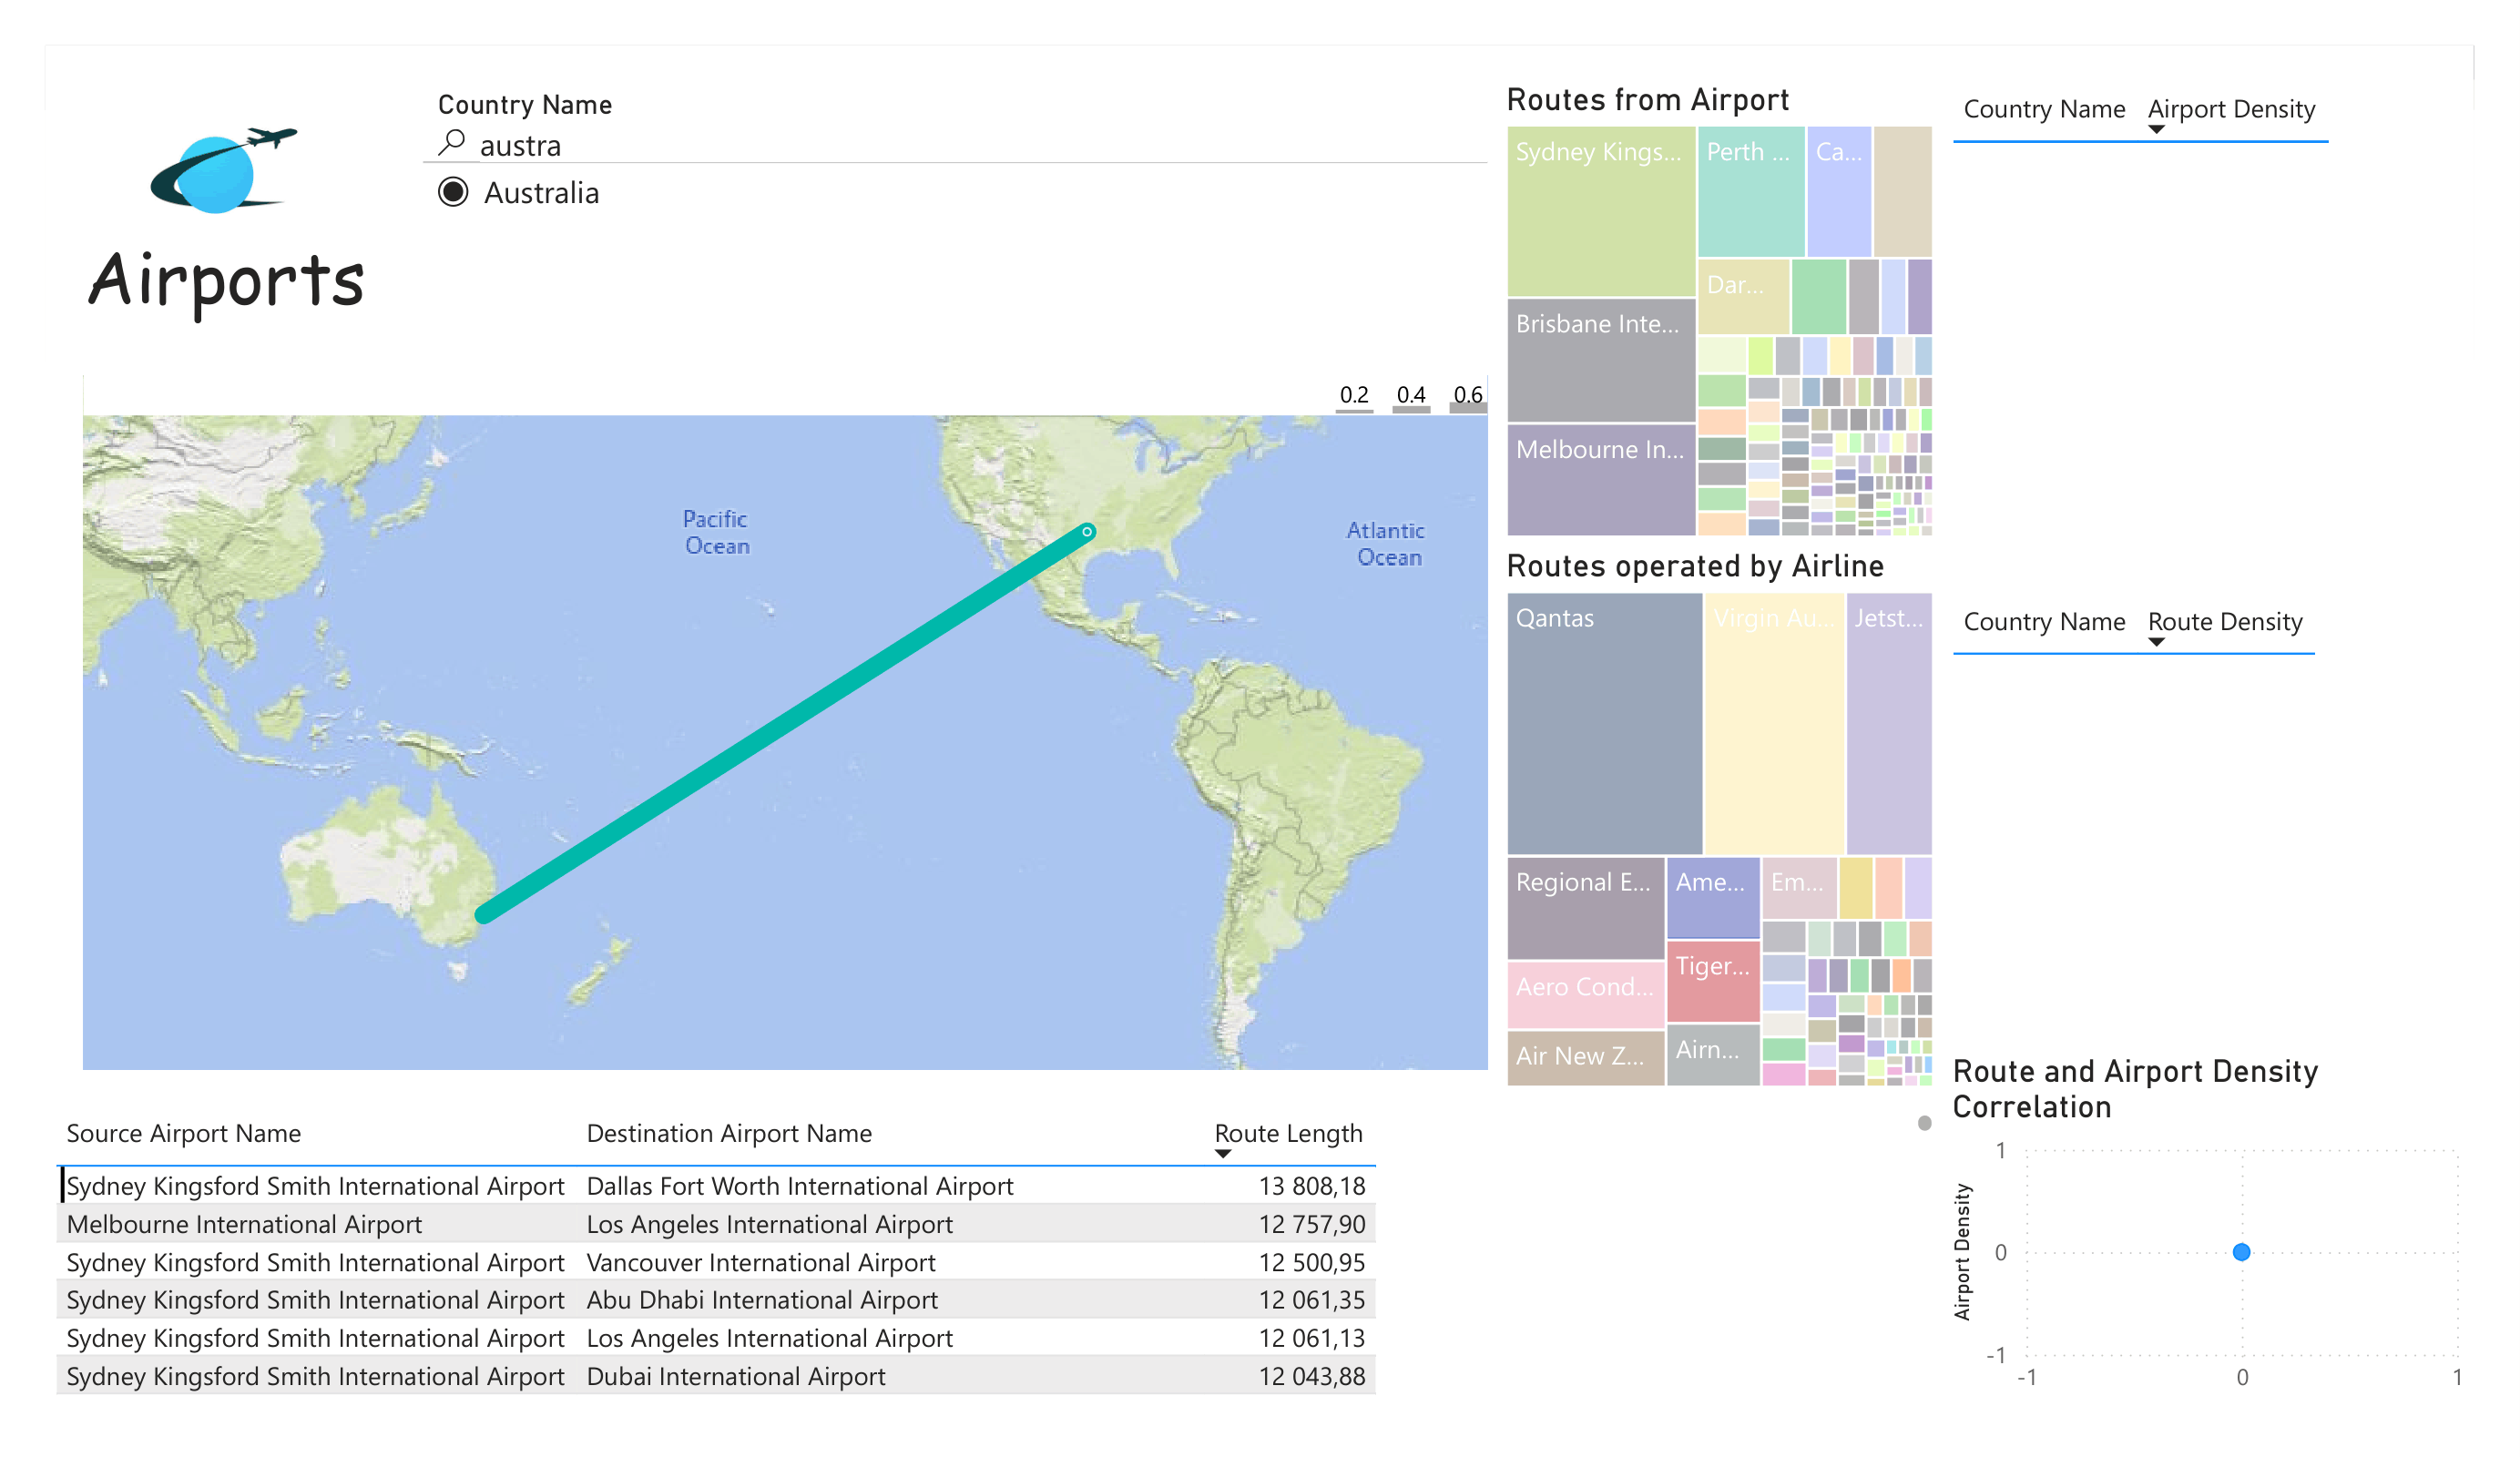

The dashboard page shown, as its layout file describes it:
{"tool":"powerbi","page":{"name":"Best Visualization","canvas":[1280,720],"ordinal":1},"visuals":[{"type":"image","box":[0,15.4,188,101.4],"z":0},{"type":"treemap","title":"Routes operated by Airline","fields":{"Group":["target airlines.name"],"Values":["target airlines.Airline Route Count"]},"box":[764.8,263.5,235.3,290.6],"z":1000},{"type":"treemap","title":"Routes from Airport","fields":{"Group":["target airports.name"],"Values":["target airports.Airport Route Count"]},"box":[764.8,17.8,235.3,245.7],"z":2000},{"type":"tableEx","fields":{"Values":["target routes.Src Name","target routes.Dest Name","target routes.Route Length"]},"box":[0,558.4,1000.1,161.6],"z":3000},{"type":"tableEx","fields":{"Values":["target countries.name","target countries.Airport Density"]},"box":[1000.1,18.4,280.1,269.7],"z":4000},{"type":"textbox","box":[15.4,90.3,172.6,63.3],"z":5000},{"type":"tableEx","fields":{"Values":["target countries.name","target countries.Route Density"]},"box":[1000.1,288.1,280.1,241.4],"z":6000},{"type":"scatterChart","title":"Route and Airport Density Correlation","fields":{"X":["target countries.Route Density"],"Y":["target countries.Airport Density"]},"box":[1000.1,529.6,280.1,190.4],"z":7000},{"type":"slicer","fields":{"Values":["target countries.name"]},"box":[193.5,18.4,571.9,150.5],"z":8000},{"type":"flowmap30CFDD5B92F848C88242B1E81C8C33C7","fields":{"Dest":["target routes.Dest Name"],"Origin":["target routes.Src Name"],"DLati":["Avg(target routes.Dest Lat)"],"DLong":["Avg(target routes.Dest Long)"],"OLati":["Avg(target routes.Src Lat)"],"OLong":["Avg(target routes.Src Long)"]},"box":[15.4,168.9,750.1,376],"z":9000}]}

Visuals, with their boxes on the page's 1280x720 design canvas (x1, y1, x2, y2). These are canvas units, not pixel positions in the 2520x1457 screenshot, which may show the page scaled, cropped or inside an application window:
image: box=[0, 15, 188, 117]
"Routes operated by Airline" treemap: box=[765, 264, 1000, 554]
"Routes from Airport" treemap: box=[765, 18, 1000, 264]
tableEx - target routes.Src Name x target routes.Dest Name: box=[0, 558, 1000, 720]
tableEx - target countries.name x target countries.Airport Density: box=[1000, 18, 1280, 288]
textbox: box=[15, 90, 188, 154]
tableEx - target countries.name x target countries.Route Density: box=[1000, 288, 1280, 530]
"Route and Airport Density Correlation" scatterChart: box=[1000, 530, 1280, 720]
slicer - target countries.name: box=[194, 18, 765, 169]
flowmap30CFDD5B92F848C88242B1E81C8C33C7 - target routes.Dest Name x target routes.Src Name: box=[15, 169, 766, 545]
